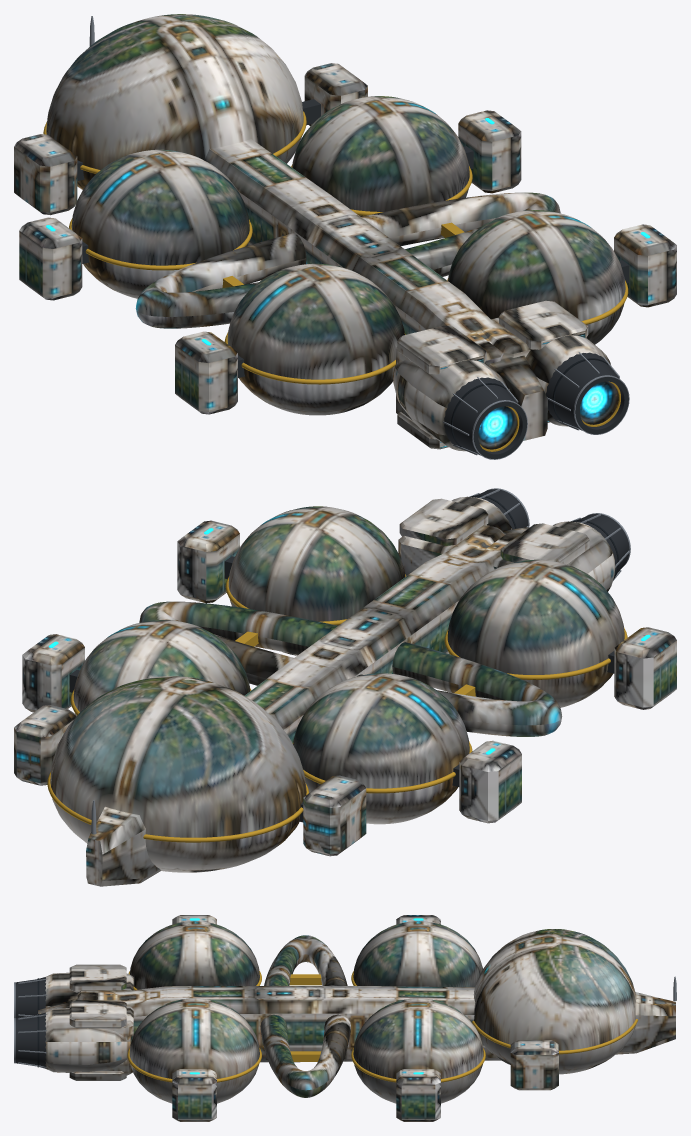
Rendered from colony-ship.glb.
3 views of the same model, one above another, from view 1: azimuth 30°, elevation 25°; view 2: azimuth 150°, elevation 25°; view 3: azimuth 270°, elevation 25° (orthographic). The views are drawn at different scales.
Parts seen in each view (by area): view 1: Reference artwork | titanium, brass, panels and canopy, Ventral armor | dedicated bottom-view reference, Structural frames | gunmetal, Warm brass collars, Machined titanium edges; view 2: Reference artwork | titanium, brass, panels and canopy, Ventral armor | dedicated bottom-view reference, Warm brass collars, Structural frames | gunmetal, Machined titanium edges; view 3: Reference artwork | titanium, brass, panels and canopy, Ventral armor | dedicated bottom-view reference, Structural frames | gunmetal, Warm brass collars, Machined titanium edges.
Part boxes in pixels (x1=…): Reference artwork | titanium, brass, panels and canopy: x1=14, y1=14, x2=676, y2=449; Ventral armor | dedicated bottom-view reference: x1=17, y1=125, x2=672, y2=451; Structural frames | gunmetal: x1=77, y1=99, x2=629, y2=458; Warm brass collars: x1=43, y1=111, x2=628, y2=451; Machined titanium edges: x1=89, y1=16, x2=629, y2=459; Reference artwork | titanium, brass, panels and canopy: x1=14, y1=496, x2=676, y2=886; Ventral armor | dedicated bottom-view reference: x1=17, y1=550, x2=671, y2=886; Warm brass collars: x1=47, y1=574, x2=627, y2=842; Structural frames | gunmetal: x1=69, y1=489, x2=629, y2=822; Machined titanium edges: x1=91, y1=488, x2=630, y2=834; Reference artwork | titanium, brass, panels and canopy: x1=38, y1=915, x2=675, y2=1119; Ventral armor | dedicated bottom-view reference: x1=45, y1=954, x2=675, y2=1121; Structural frames | gunmetal: x1=15, y1=977, x2=46, y2=1068; Warm brass collars: x1=127, y1=971, x2=638, y2=1082; Machined titanium edges: x1=14, y1=976, x2=676, y2=1067.
Size of the model in its own units: 11.53 by 3.88 by 19.25.
7 materials, 2 textured.
